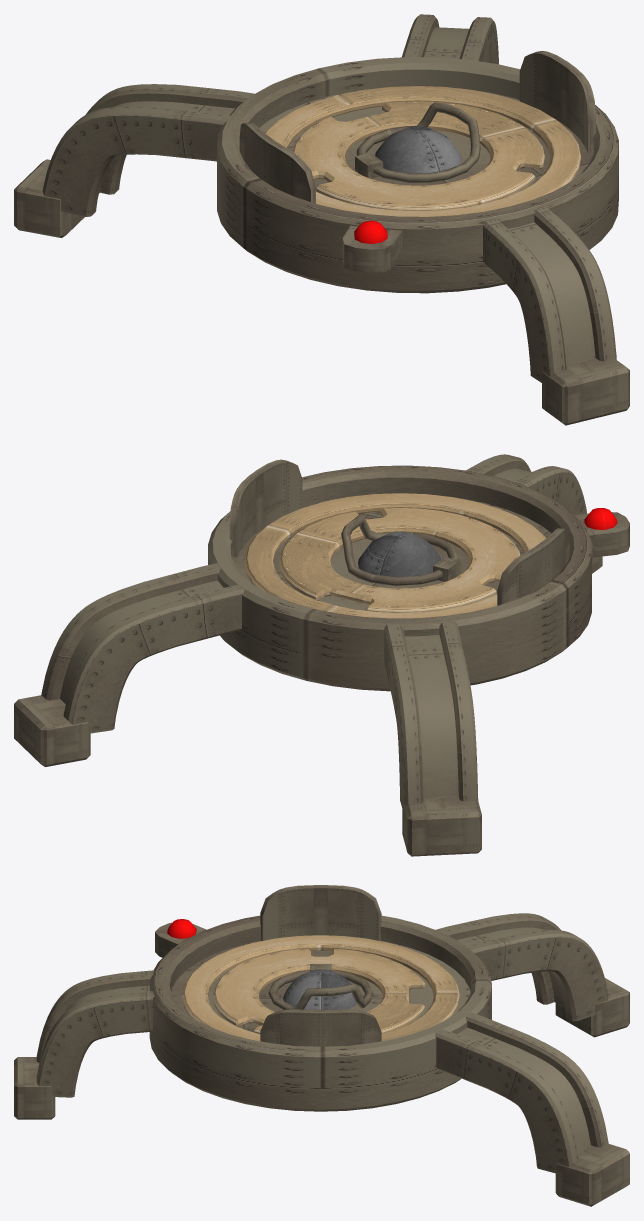
The model's file is static.glb.
The picture shows the model from 3 angles, top to bottom: view 1: azimuth 30°, elevation 25°; view 2: azimuth 150°, elevation 25°; view 3: azimuth 270°, elevation 25°; orthographic projection. The views are drawn at different scales.
Parts seen in each view (by area): view 1: Tube, Boole_2, Sweep_2, Sweep_3, Sweep_6, Cube_5, Cube_3, Sweep_1_3, Cylinder_2, Sphere, Cube_2, Sweep_5 (+5 smaller); view 2: Tube, Sweep, Boole_2, Sweep_6, Sweep_2, Cube_5, Sweep_1_2, Cube_2, Cube, Cylinder_2, Sphere, Sweep_3 (+4 smaller); view 3: Tube, Sweep, Cube_5, Sweep_2, Boole_2, Sweep_3, Sweep_6, Cube, Cylinder_2, Sweep_1, Cube_3, Cube_2 (+6 smaller).
Boxes of the visible parts, box(x1,y1,x2,y2) form: Tube: box(217, 57, 618, 293); Boole_2: box(292, 101, 544, 210); Sweep_2: box(42, 84, 254, 216); Sweep_3: box(483, 206, 616, 382); Sweep_6: box(265, 86, 581, 216); Cube_5: box(239, 51, 595, 203); Cube_3: box(542, 358, 629, 425); Sweep_1_3: box(508, 222, 595, 364); Cylinder_2: box(259, 87, 593, 191); Sphere: box(375, 126, 461, 173); Cube_2: box(14, 159, 84, 237); Sweep_5: box(356, 102, 480, 182); Tube: box(208, 465, 591, 691); Sweep: box(41, 563, 244, 733); Boole_2: box(278, 508, 520, 612); Sweep_6: box(244, 493, 545, 618); Sweep_2: box(384, 621, 478, 807); Cube_5: box(229, 459, 570, 605); Sweep_1_2: box(405, 634, 458, 797); Cube_2: box(402, 796, 481, 856); Cube: box(14, 695, 90, 766); Cylinder_2: box(231, 493, 551, 610); Sphere: box(358, 532, 440, 577); Sweep_3: box(466, 454, 586, 514); Tube: box(149, 915, 491, 1111); Sweep: box(435, 1012, 608, 1173); Cube_5: box(260, 885, 381, 1046); Sweep_2: box(435, 913, 608, 1021); Boole_2: box(212, 948, 425, 1033); Sweep_3: box(36, 970, 154, 1097); Sweep_6: box(182, 935, 459, 1041); Cube: box(555, 1143, 629, 1206); Cylinder_2: box(171, 941, 470, 1032); Sweep_1: box(457, 1027, 590, 1152); Cube_3: box(14, 1057, 55, 1119); Cube_2: box(555, 978, 629, 1037).
Size of the model in its own units: 1.67 by 0.6084 by 2.15.
Materials: 4 (4 with a texture image).
